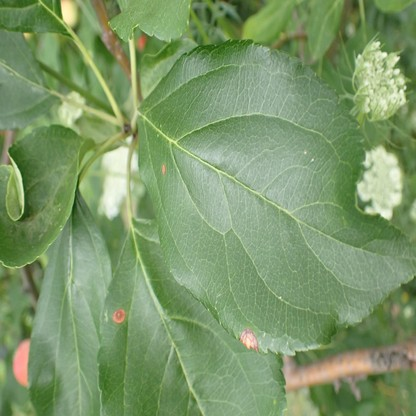frogeye_leaf_spot: (240, 329, 257, 350), (113, 308, 126, 322), (162, 163, 166, 176)
